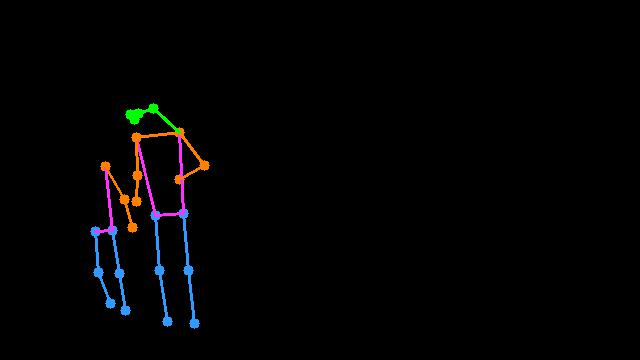normal: (71, 85, 222, 342)
